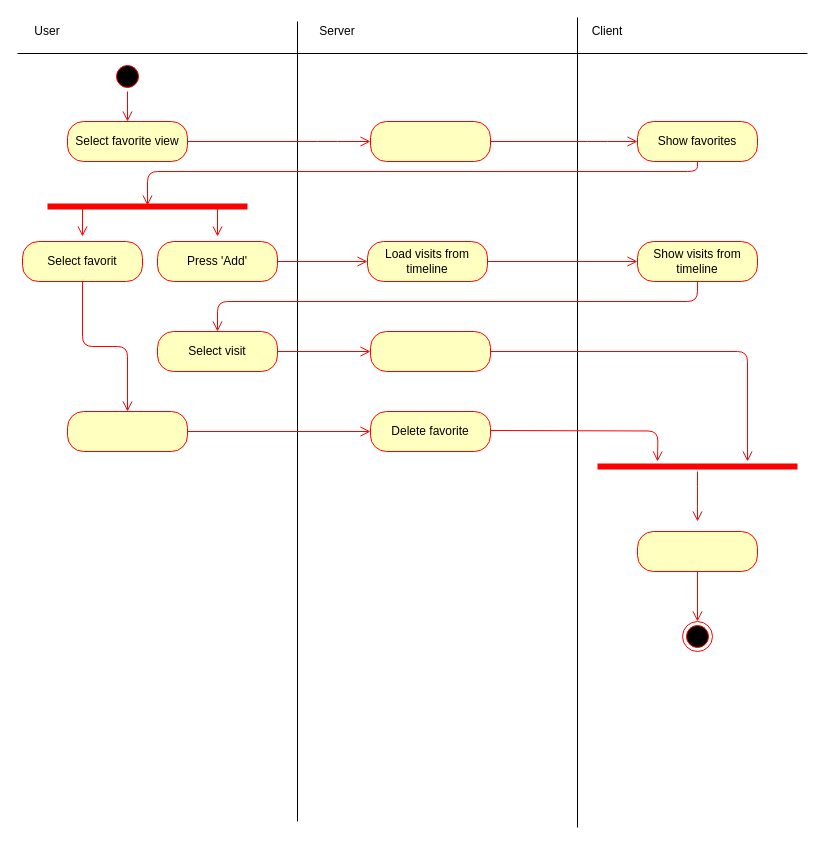
The diagram is 825 pixels wide and 845 high, and some of its shapes have lost their labels. Here are the shapes that lost their labels. From the top down, the centre of each, then its label:
At pixel 430 141: "Load favorites".
At pixel 430 351: "Tag visit as favorite".
At pixel 127 431: "Press 'Delete'".
At pixel 697 551: "Show updated favorite view".
